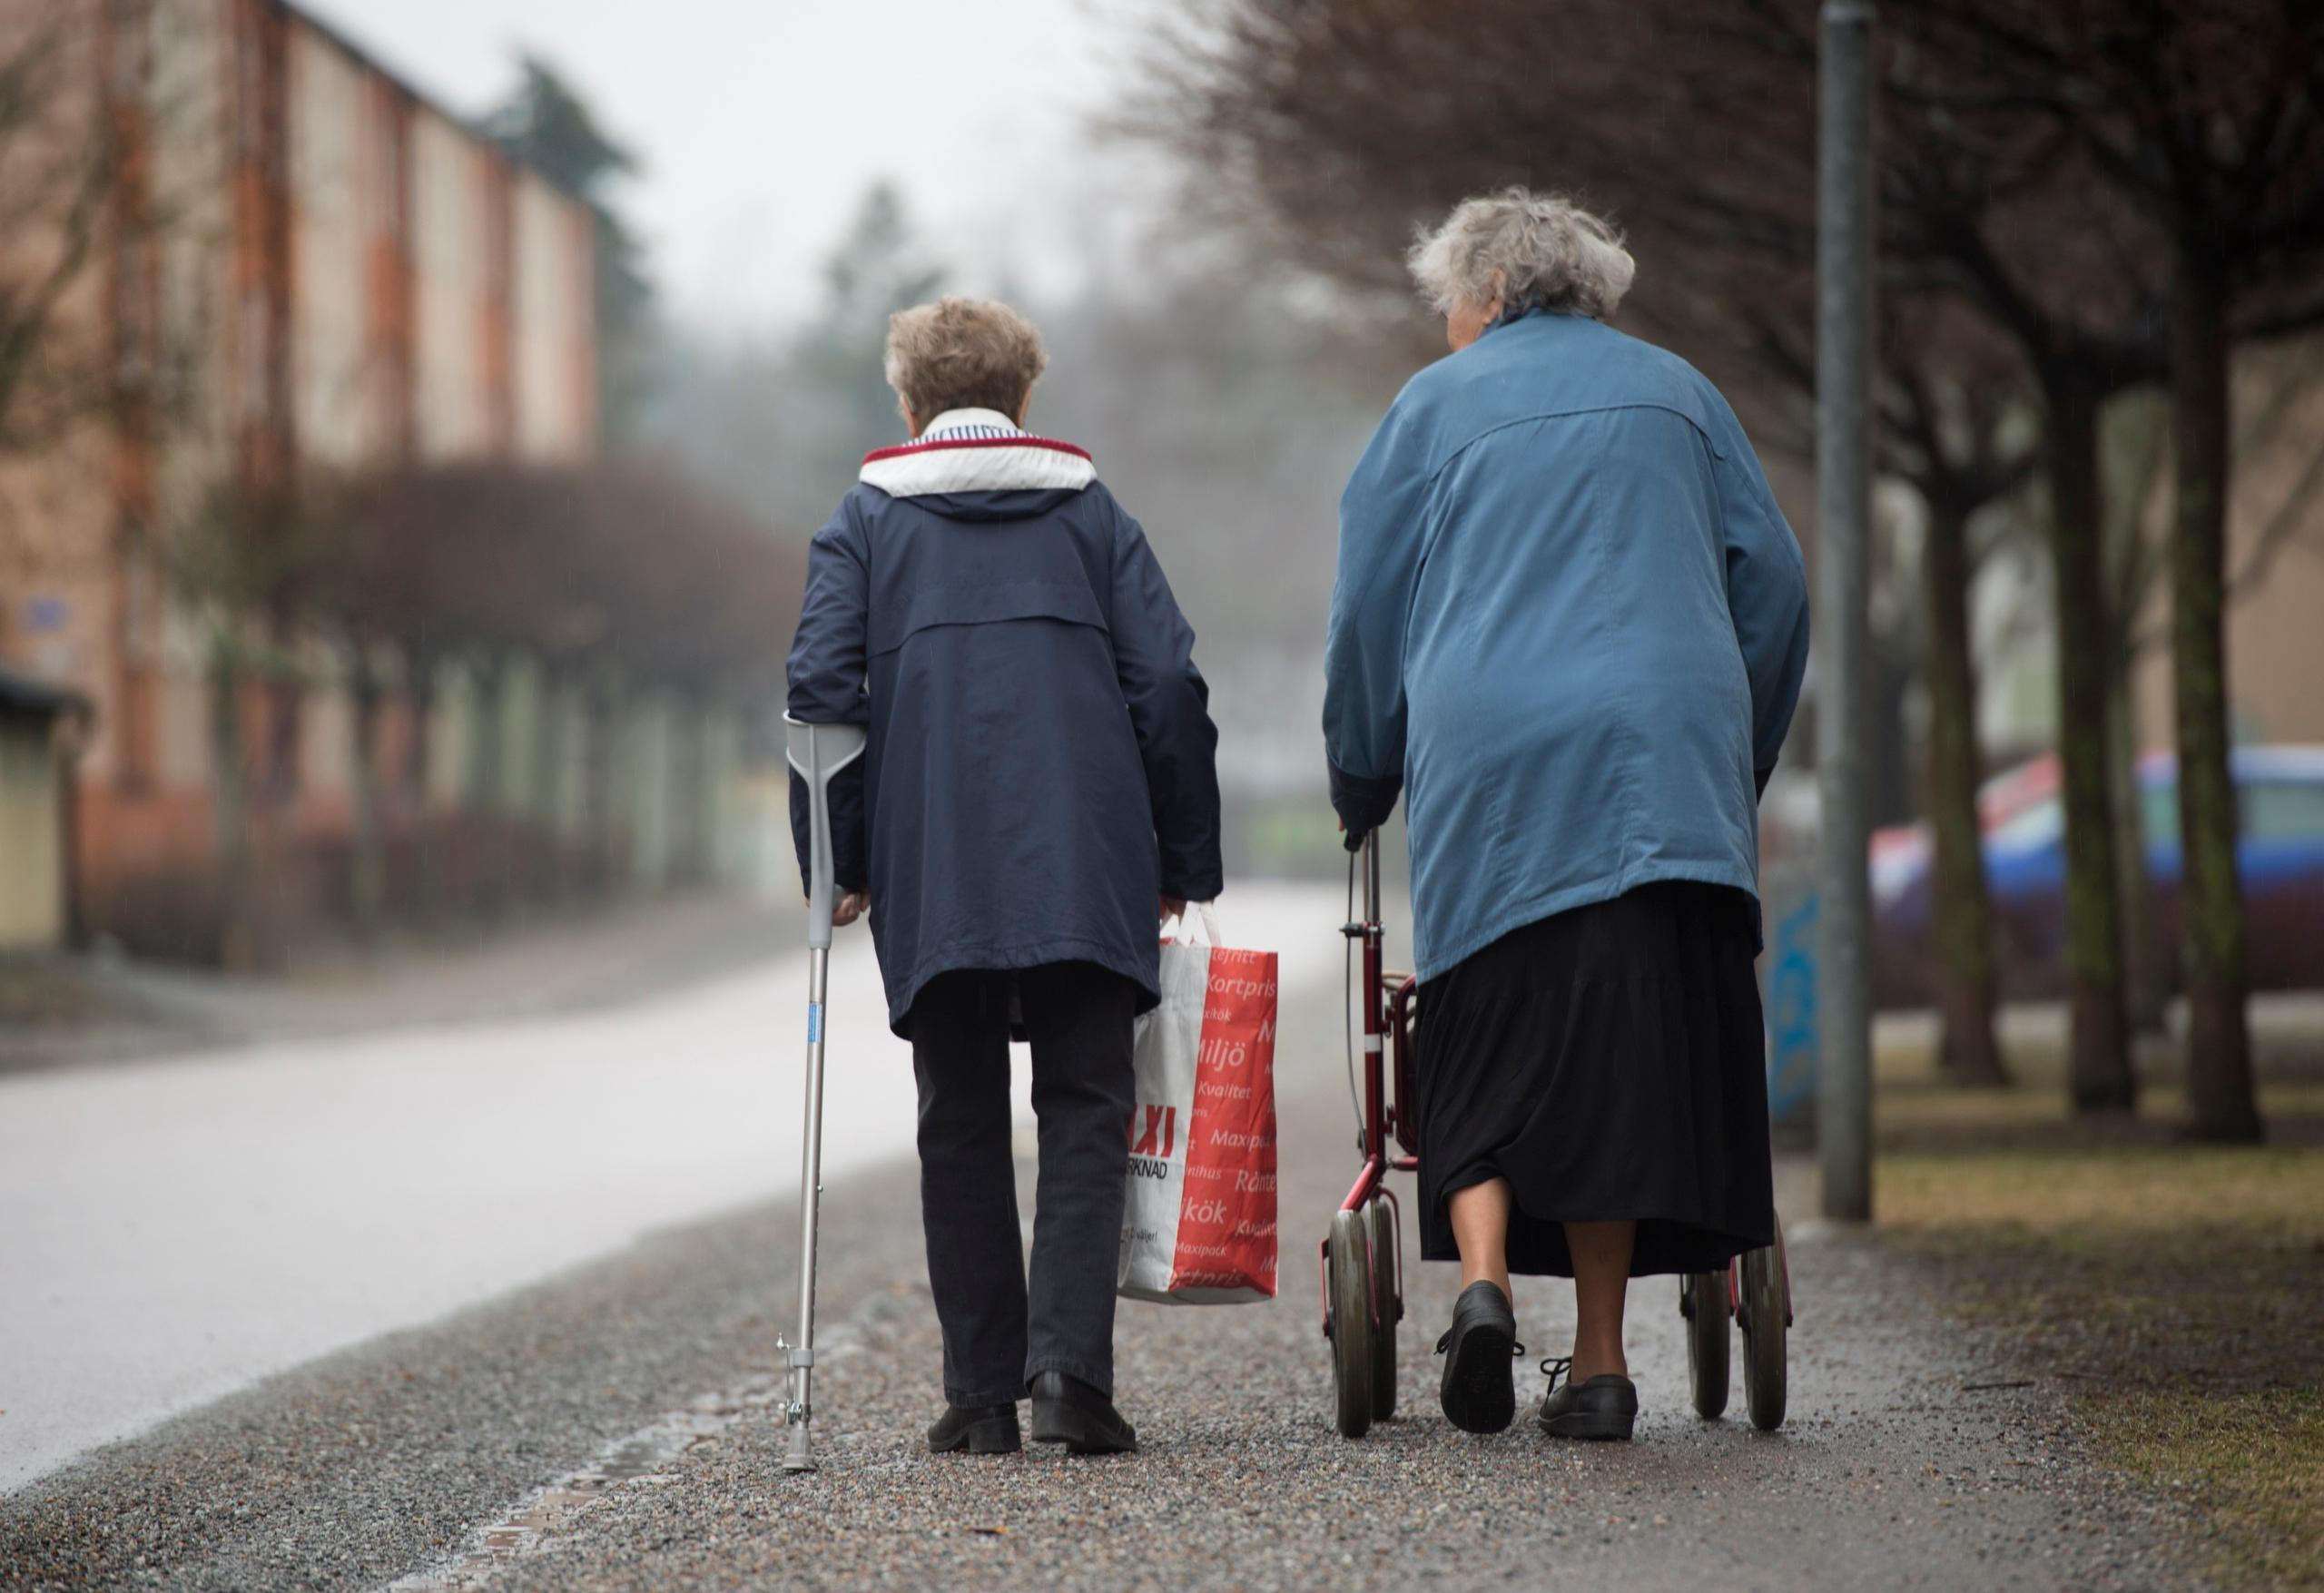crutches: (779, 295, 1280, 1473)
walking_frame: (1321, 189, 1810, 1441)
